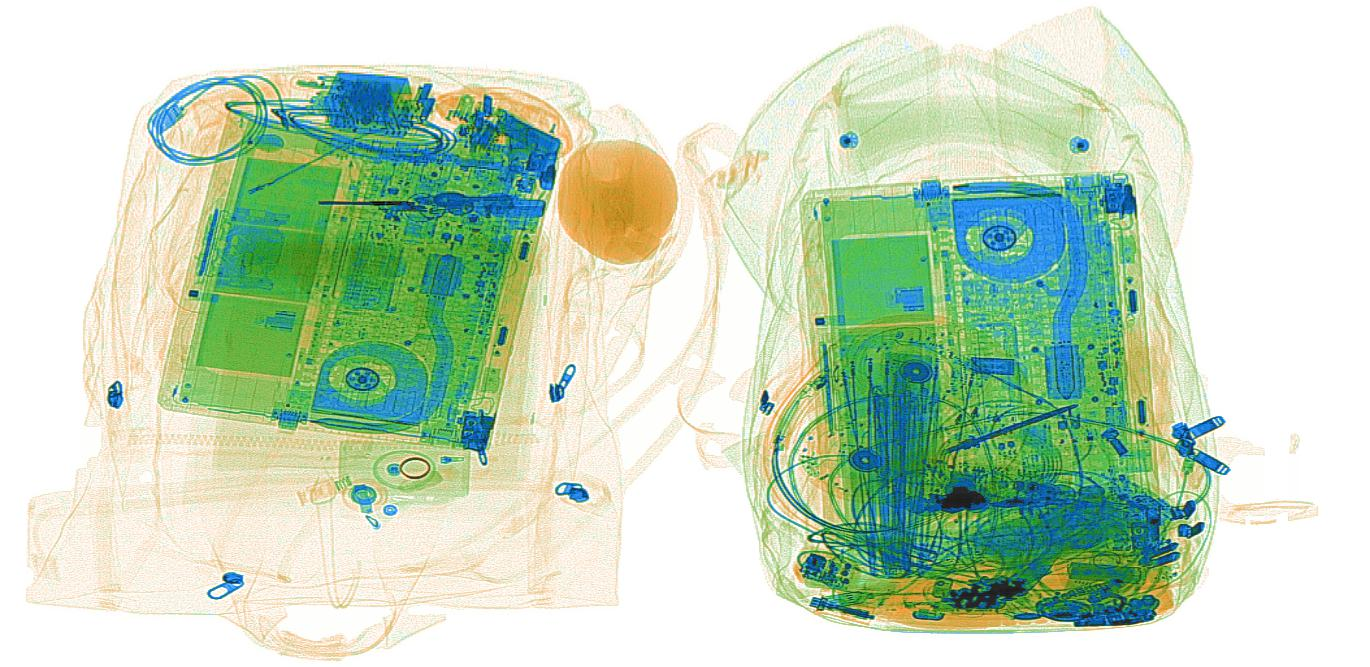battery: (492, 108, 562, 159), (1067, 558, 1147, 586)
